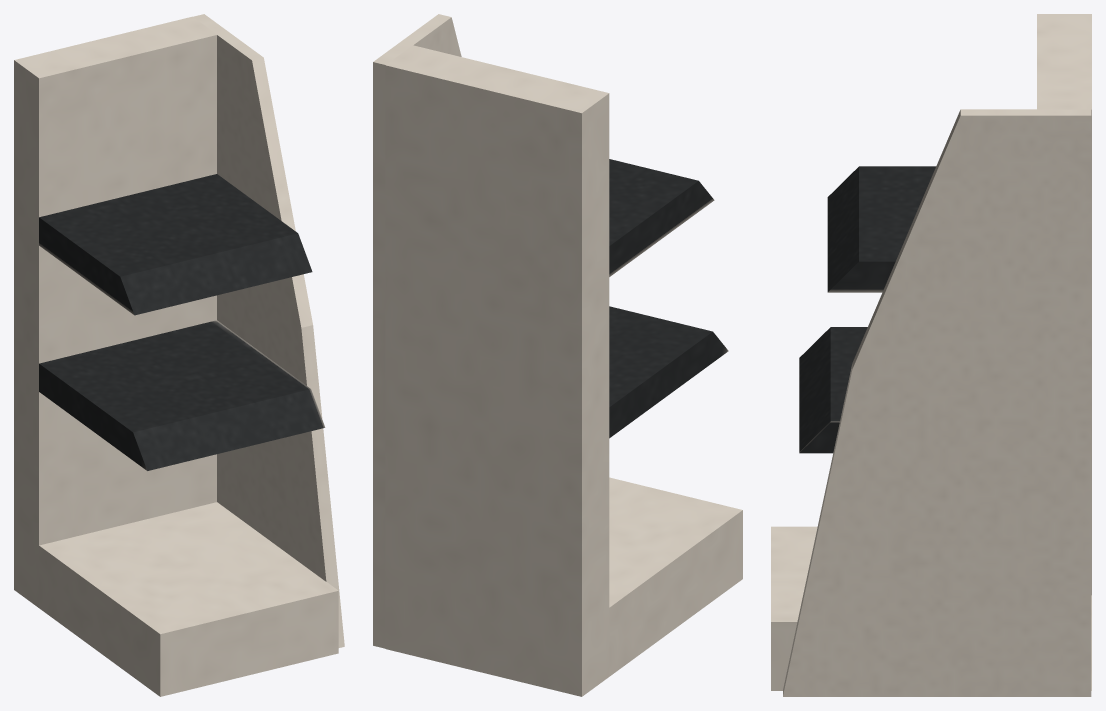
The model's file is shelf_right.fbx.
The picture shows the model from 3 angles, left to right: view 1: azimuth 30°, elevation 25°; view 2: azimuth 150°, elevation 25°; view 3: azimuth 270°, elevation 25°; orthographic projection. The views are drawn at different scales.
Visible parts, largest first — view 1: shelf_end_left; view 2: shelf_end_left; view 3: shelf_end_left.
Boxes of the visible parts, box(x1,y1,x2,y2) form: shelf_end_left: box(14, 14, 344, 696); shelf_end_left: box(373, 14, 742, 696); shelf_end_left: box(771, 14, 1091, 696).
Bounding box in the file's own units: 75 × 200 × 100.
